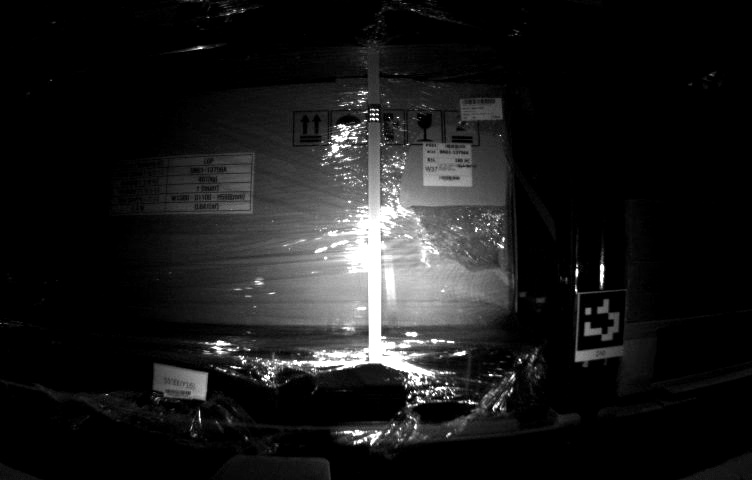True Barcode: (423, 141, 475, 188)
